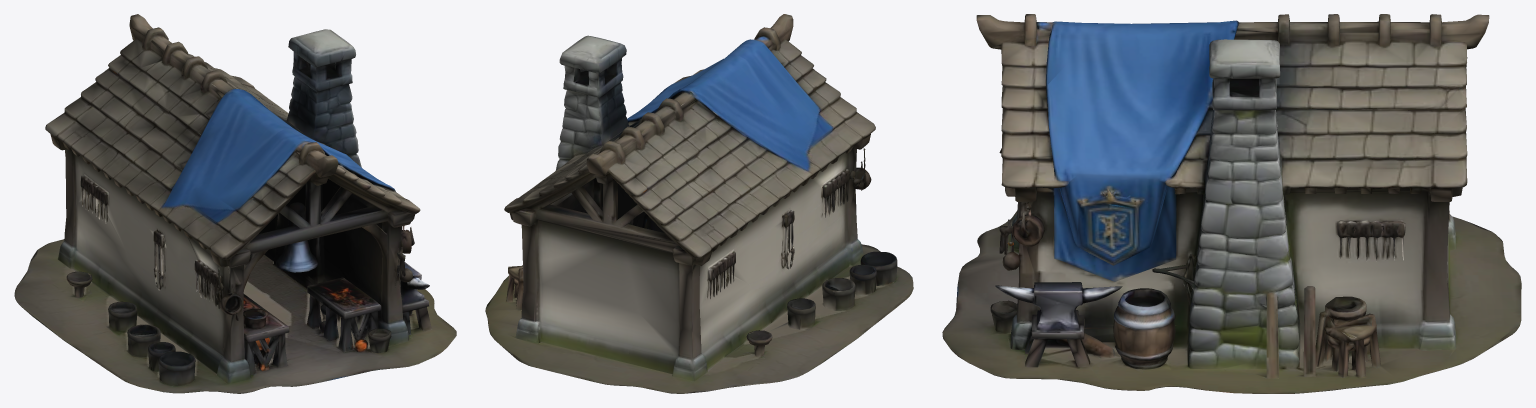
The model's file is hum_forge.glb.
3 views of the same model, side by side, from view 1: azimuth 30°, elevation 25°; view 2: azimuth 150°, elevation 25°; view 3: azimuth 270°, elevation 25° (orthographic). The views are drawn at different scales.
Visible parts, largest first — view 1: node_0; view 2: node_0; view 3: node_0.
Boxes of the visible parts, x1,y1,x2,y2 form: node_0: [14, 14, 456, 393]; node_0: [485, 14, 913, 393]; node_0: [942, 14, 1521, 393].
Size of the model in its own units: 0.8224 by 0.5697 by 0.968.
1 material, 1 textured.
